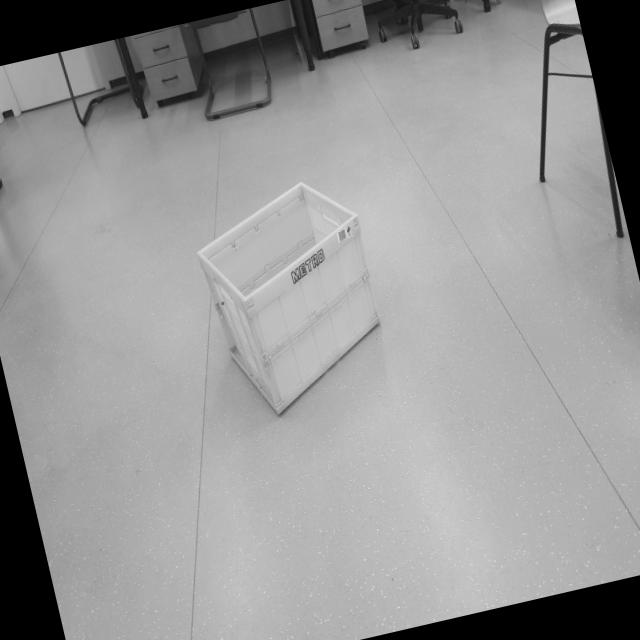box: (178, 162, 401, 431)
